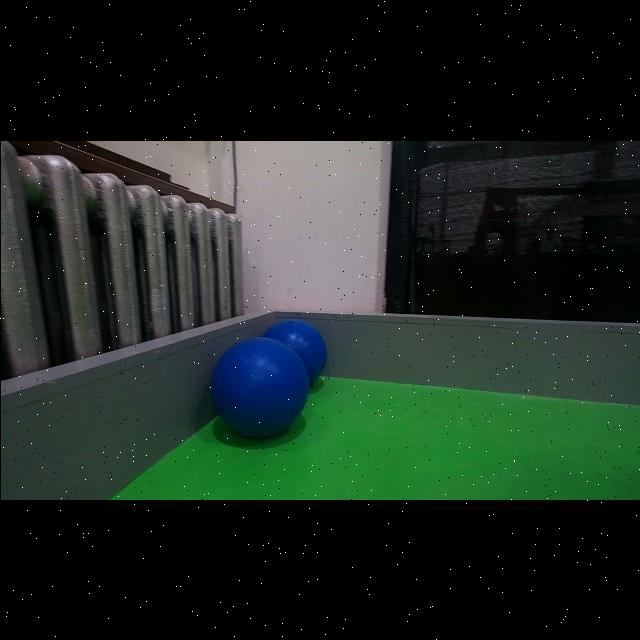B: (210, 335, 308, 437), (265, 323, 333, 391)
